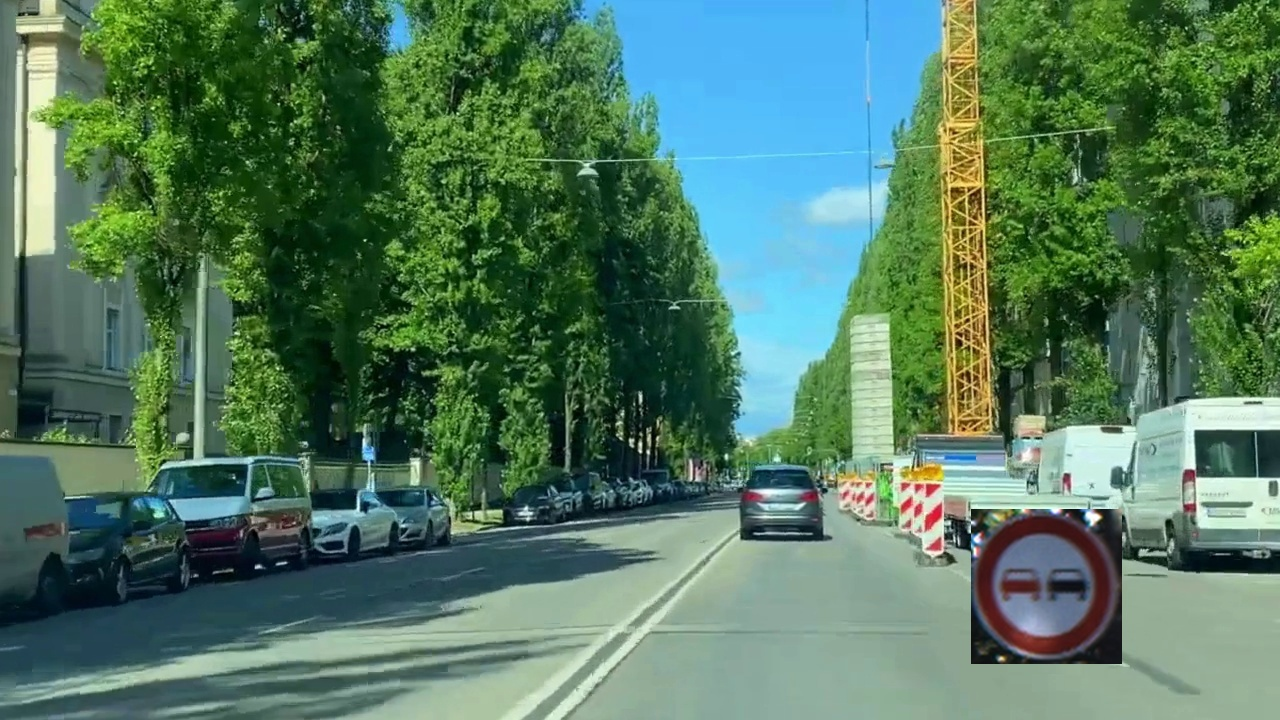No passing: (971, 509, 1122, 664)
